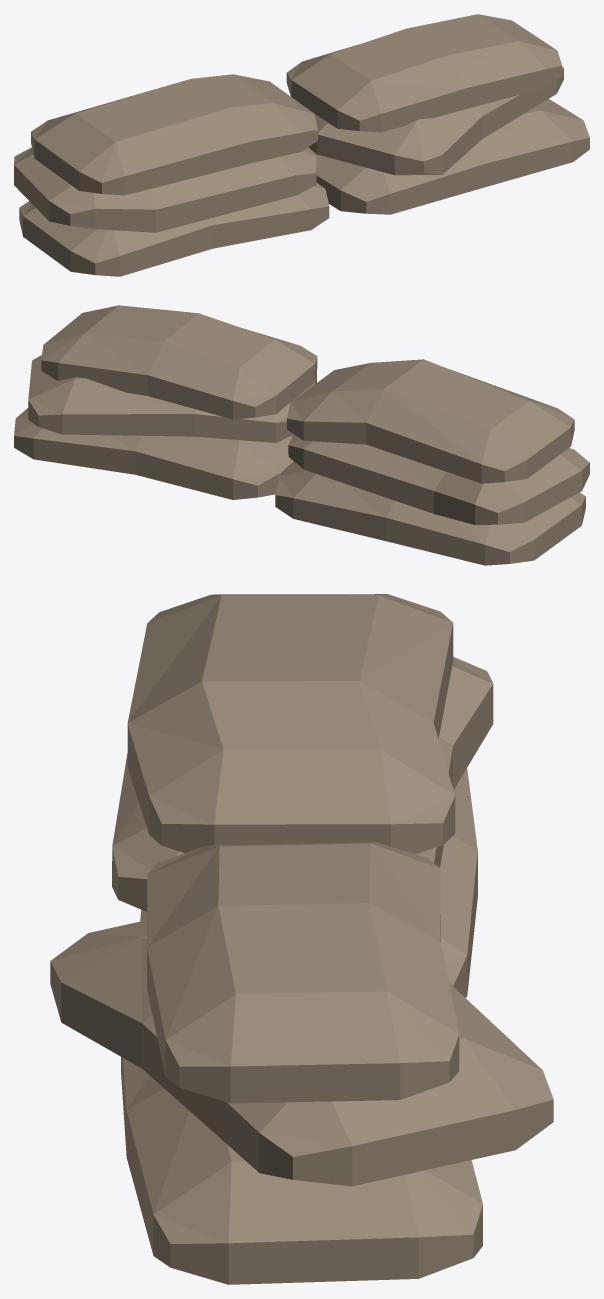
File: SM_Prop_Sack_02.glb
3 renders of one model, top to bottom at view 1: azimuth 30°, elevation 25°; view 2: azimuth 150°, elevation 25°; view 3: azimuth 270°, elevation 25°, orthographic. The views are drawn at different scales.
Visible parts, largest first — view 1: SM_Prop_Sack_02_part00; view 2: SM_Prop_Sack_02_part00; view 3: SM_Prop_Sack_02_part00.
Part boxes in pixels (x1,y1,x2,y2): SM_Prop_Sack_02_part00: (14, 14, 589, 276); SM_Prop_Sack_02_part00: (14, 305, 589, 565); SM_Prop_Sack_02_part00: (50, 594, 553, 1284).
Bounding box in the file's own units: 2.16 × 0.54 × 0.8885.
Materials: 1 (1 with a texture image).
